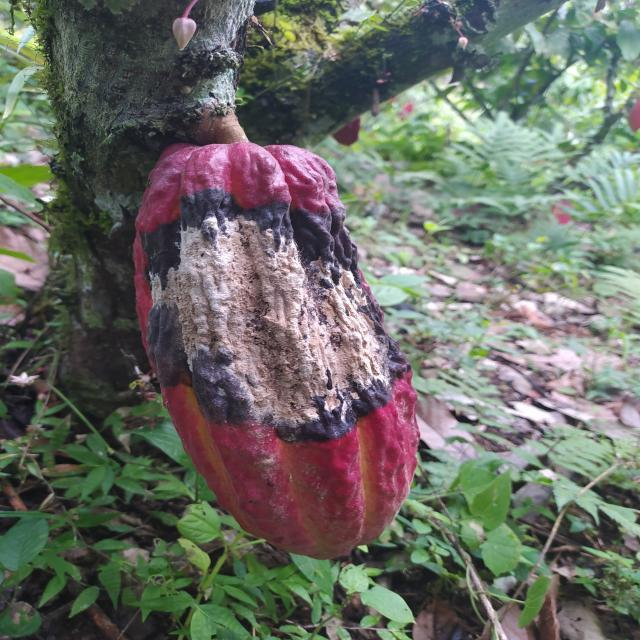Monilia: (131, 144, 420, 560)
